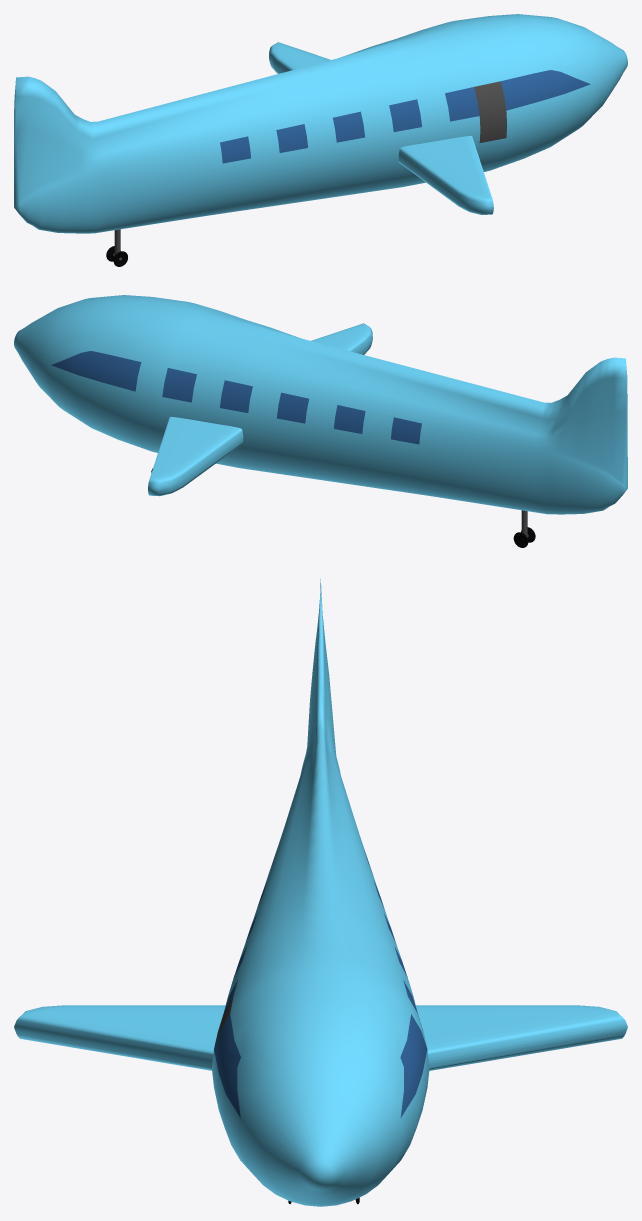
File: Areoplane_fbx.fbx
3 views of the same model, one above another, from view 1: azimuth 30°, elevation 25°; view 2: azimuth 150°, elevation 25°; view 3: azimuth 270°, elevation 25° (orthographic). The views are drawn at different scales.
Visible parts, largest first — view 1: Sphere, Cube; view 2: Sphere, Cube; view 3: Sphere, Cube.
Part boxes in pixels (x1,y1,x2,y2): Sphere: (14,14,627,233); Cube: (269,42,493,214); Sphere: (14,295,627,514); Cube: (148,323,372,496); Sphere: (212,578,429,1206); Cube: (14,1005,627,1070).
Size of the model in its own units: 262 by 91.84 by 162.
